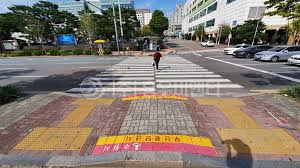guide_blocks: (221, 129, 300, 154), (17, 126, 91, 150), (220, 107, 259, 128), (62, 107, 92, 126), (198, 96, 245, 106), (71, 96, 114, 106)
